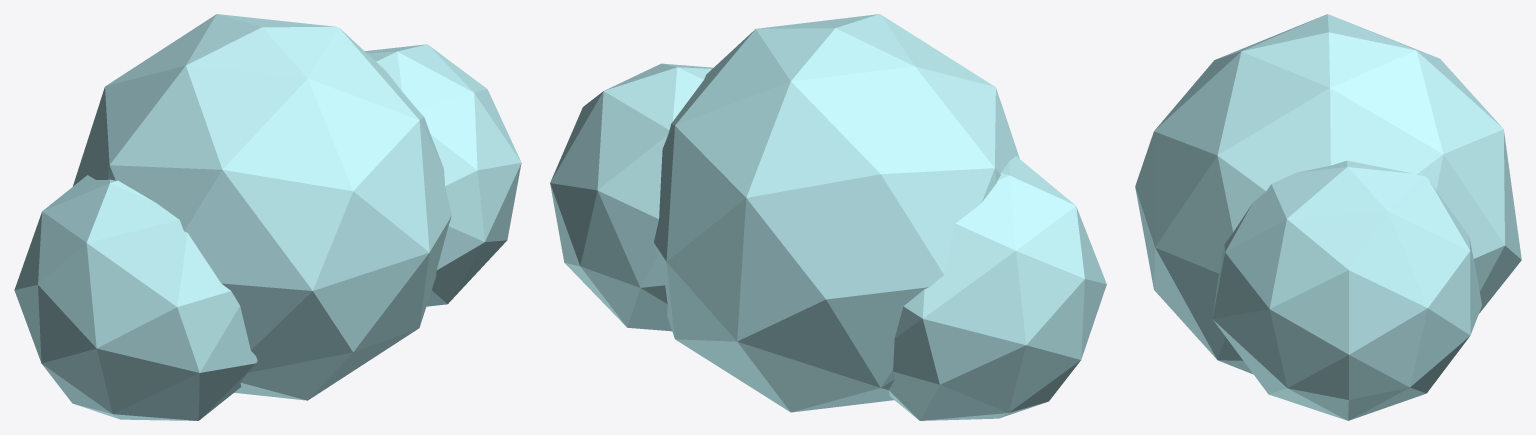
Rendered from cloud5_00008.fbx.
The picture shows the model from 3 angles, left to right: view 1: azimuth 30°, elevation 25°; view 2: azimuth 150°, elevation 25°; view 3: azimuth 270°, elevation 25°; orthographic projection. The views are drawn at different scales.
Parts seen in each view (by area): view 1: cloud5; view 2: cloud5; view 3: cloud5.
Boxes of the visible parts, <box> form: cloud5: <box>14,14,521,420</box>; cloud5: <box>550,14,1106,420</box>; cloud5: <box>1135,14,1521,420</box>.
Bounding box in the file's own units: 482 × 342 × 338.
